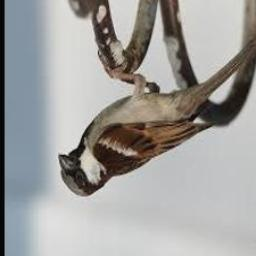Sparrow: (59, 36, 256, 196)
